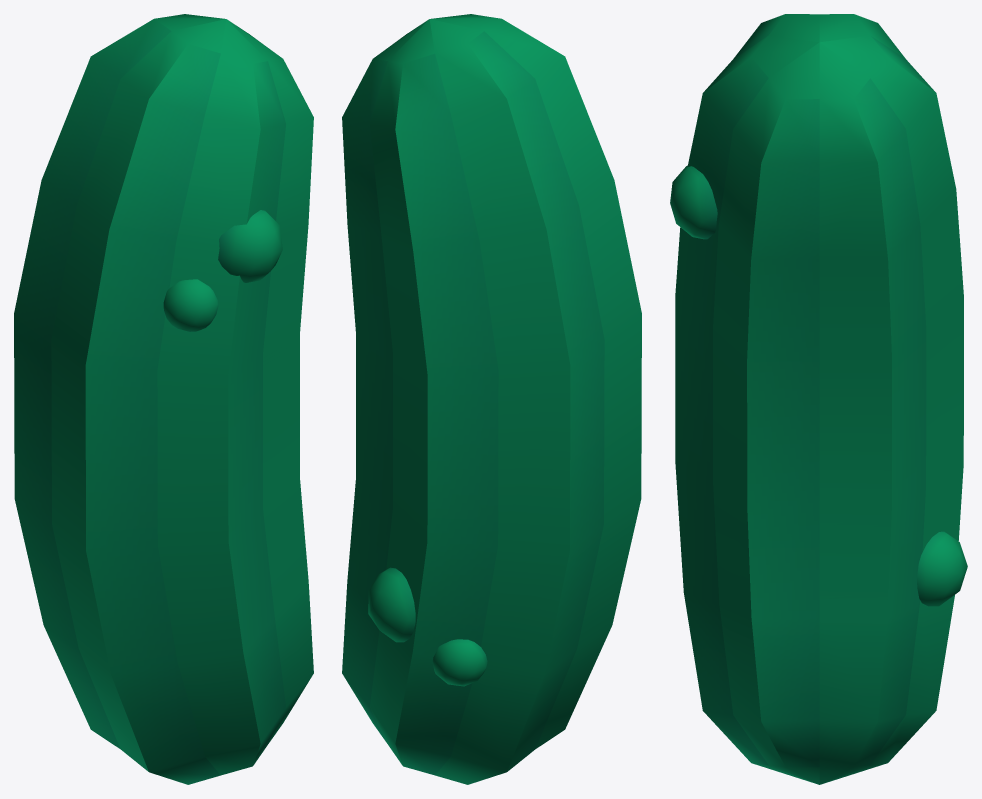
Rendered from pickle.gltf.
3 views of the same model, side by side, from view 1: azimuth 30°, elevation 25°; view 2: azimuth 150°, elevation 25°; view 3: azimuth 270°, elevation 25° (orthographic).
Parts seen in each view (by area): view 1: pickle; view 2: pickle; view 3: pickle.
Boxes of the visible parts, left/top/right/bottom form: pickle: left=14, top=14, right=313, bottom=784; pickle: left=342, top=14, right=641, bottom=784; pickle: left=670, top=14, right=967, bottom=784.
Size of the model in its own units: 0.1437 by 0.4328 by 0.1568.
1 material, 1 textured.
